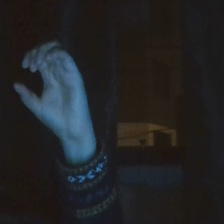C: (9, 39, 101, 145)
